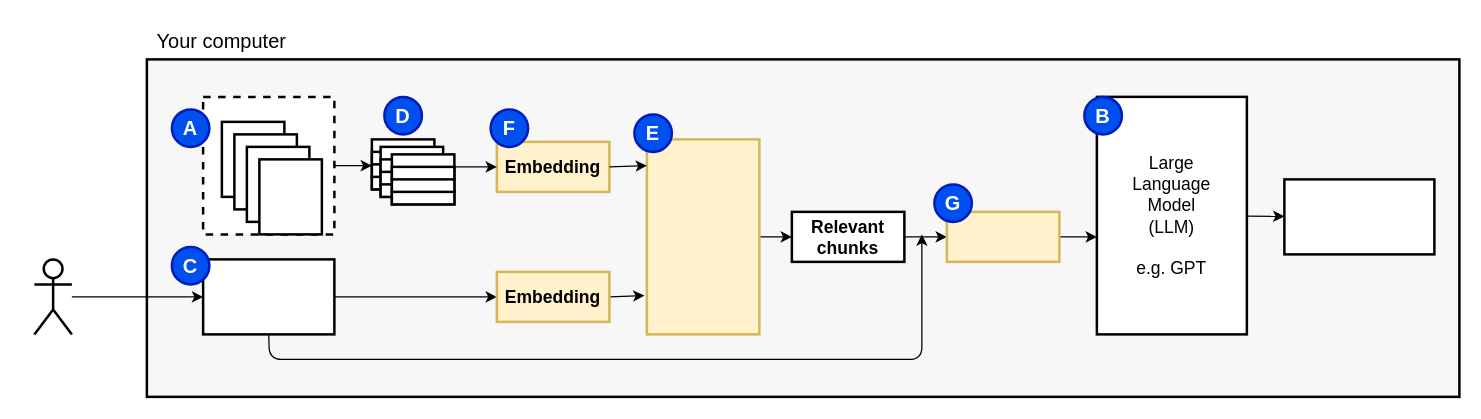
Image size: 1481x419. Some labels were removed from this diagram. Each missing label, with the centre of its shape:
Answer: the point at 1358,216
Prompt: the point at 1002,236
Question: the point at 268,296
Similarity seatch: the point at 702,236
